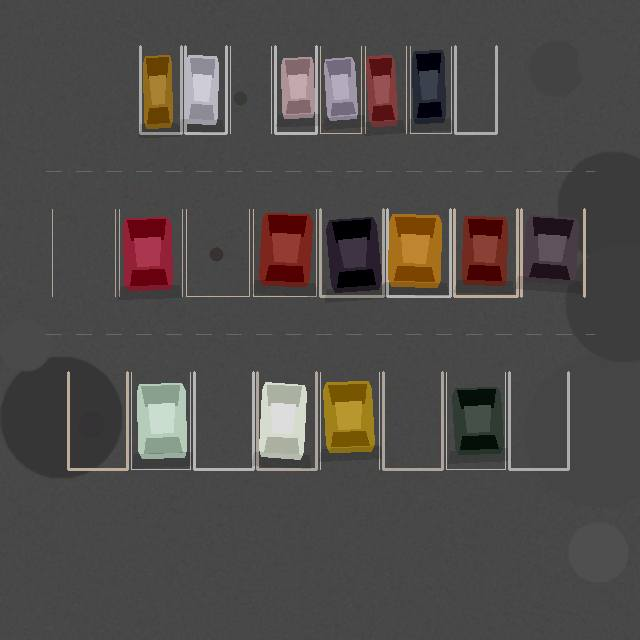space-empty: (68, 372, 127, 469), (194, 372, 253, 469), (383, 372, 442, 469), (509, 372, 568, 469), (52, 209, 115, 296), (186, 209, 249, 296), (230, 46, 271, 133), (455, 46, 496, 133)
space-occupied: (131, 372, 190, 469), (257, 372, 316, 469), (320, 372, 379, 469), (446, 372, 505, 469), (119, 209, 182, 296), (253, 209, 316, 296), (320, 209, 383, 296), (387, 209, 450, 296), (454, 209, 517, 296), (521, 209, 584, 296), (140, 46, 181, 133), (185, 46, 226, 133), (275, 46, 316, 133), (320, 46, 361, 133), (365, 46, 406, 133), (410, 46, 451, 133)
